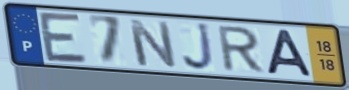7: (85, 13, 124, 67)
A: (263, 28, 316, 80)
E: (36, 10, 90, 66)
J: (181, 22, 218, 73)
N: (125, 17, 180, 70)
R: (217, 25, 268, 75)
